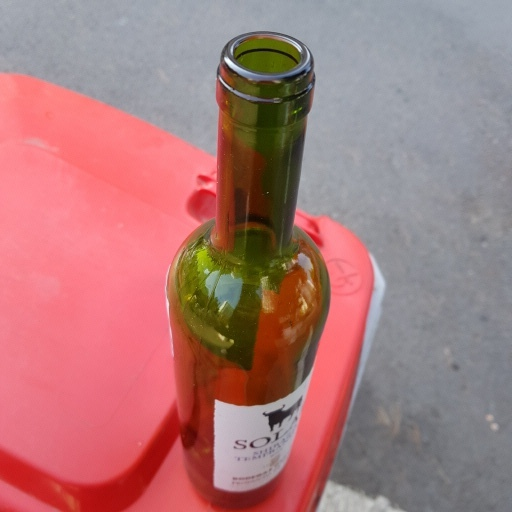Glass_2: (157, 30, 331, 505)
